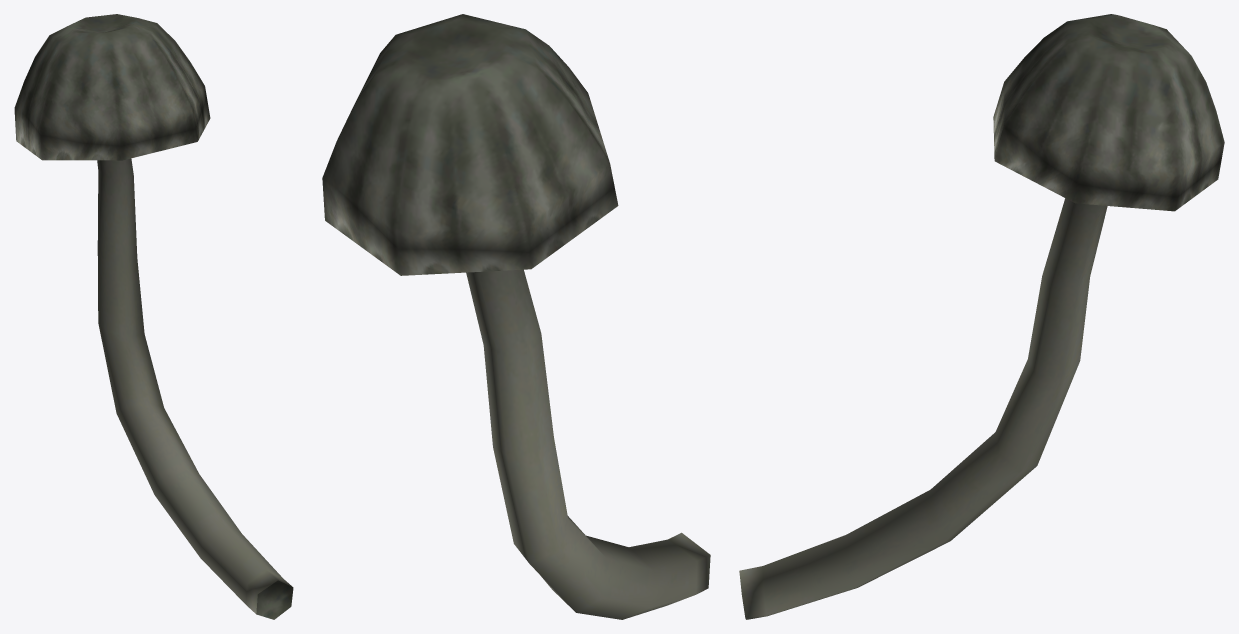
File: cave_mushroom_single_05.dae
The picture shows the model from 3 angles, left to right: view 1: azimuth 30°, elevation 25°; view 2: azimuth 150°, elevation 25°; view 3: azimuth 270°, elevation 25°; orthographic projection. The views are drawn at different scales.
Visible parts, largest first — view 1: single_5; view 2: single_5; view 3: single_5.
Boxes of the visible parts, bbox=[...] form: single_5: bbox=[14, 14, 293, 619]; single_5: bbox=[322, 14, 710, 619]; single_5: bbox=[739, 14, 1224, 619].
Bounding box in the file's own units: 0.0902 × 0.2482 × 0.1865.
